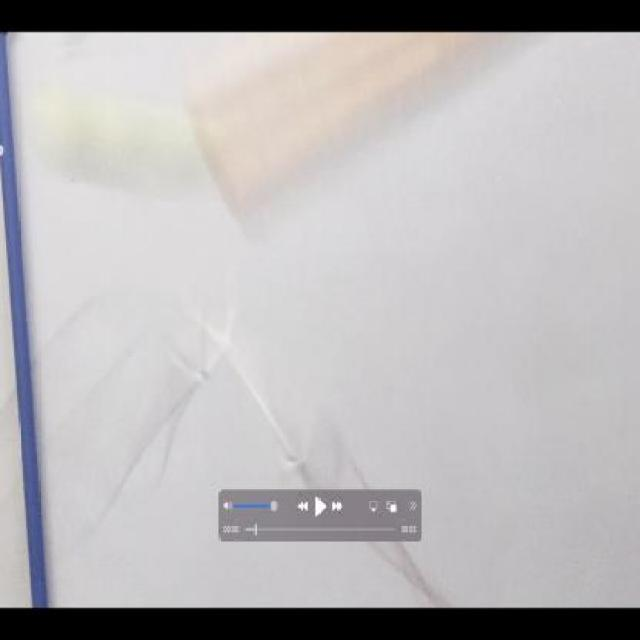baseball: (36, 85, 184, 201)
